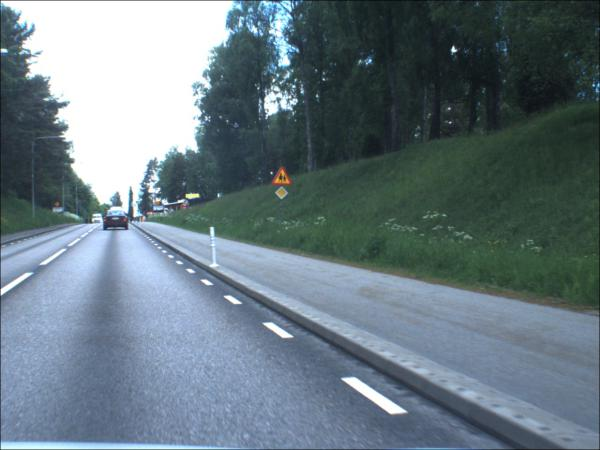50_SIGN: (156, 201, 163, 207), (57, 203, 62, 209)
PRIORITY_ROAD: (275, 187, 290, 201)
WARNING: (273, 167, 294, 187)
